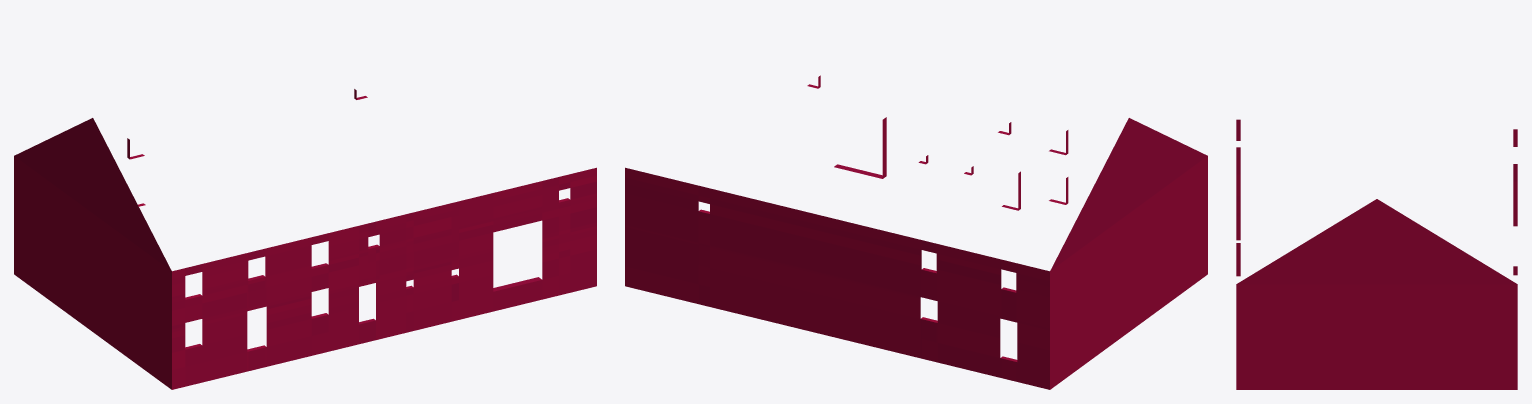
The model's file is SM_Bld_093_Masonry.glb.
3 renders of one model, left to right at view 1: azimuth 30°, elevation 25°; view 2: azimuth 150°, elevation 25°; view 3: azimuth 270°, elevation 25°, orthographic. The views are drawn at different scales.
Visible parts, largest first — view 1: SM_Bld_093_Masonry; view 2: SM_Bld_093_Masonry; view 3: SM_Bld_093_Masonry.
Part boxes in pixels (x1,y1,x2,y2): SM_Bld_093_Masonry: (14,89,596,389); SM_Bld_093_Masonry: (625,75,1207,389); SM_Bld_093_Masonry: (1236,119,1517,389).
Bounding box in the file's own units: 22.49 × 10.85 × 14.47.
